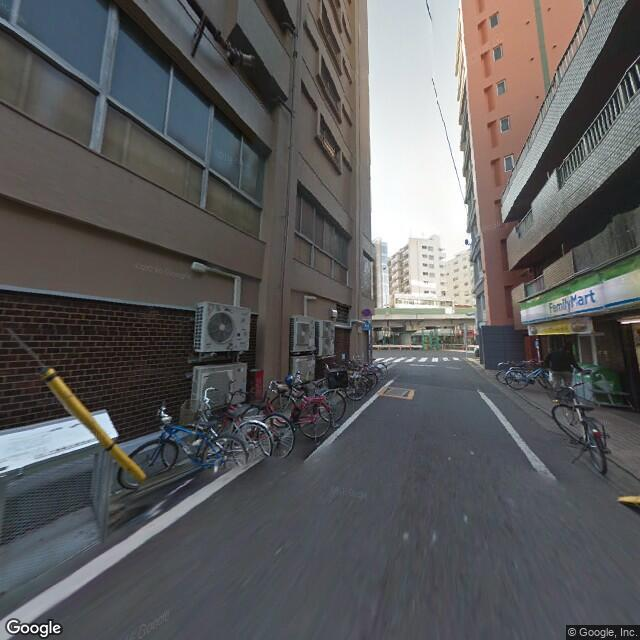family_mart: (515, 249, 638, 324), (546, 283, 601, 320)
